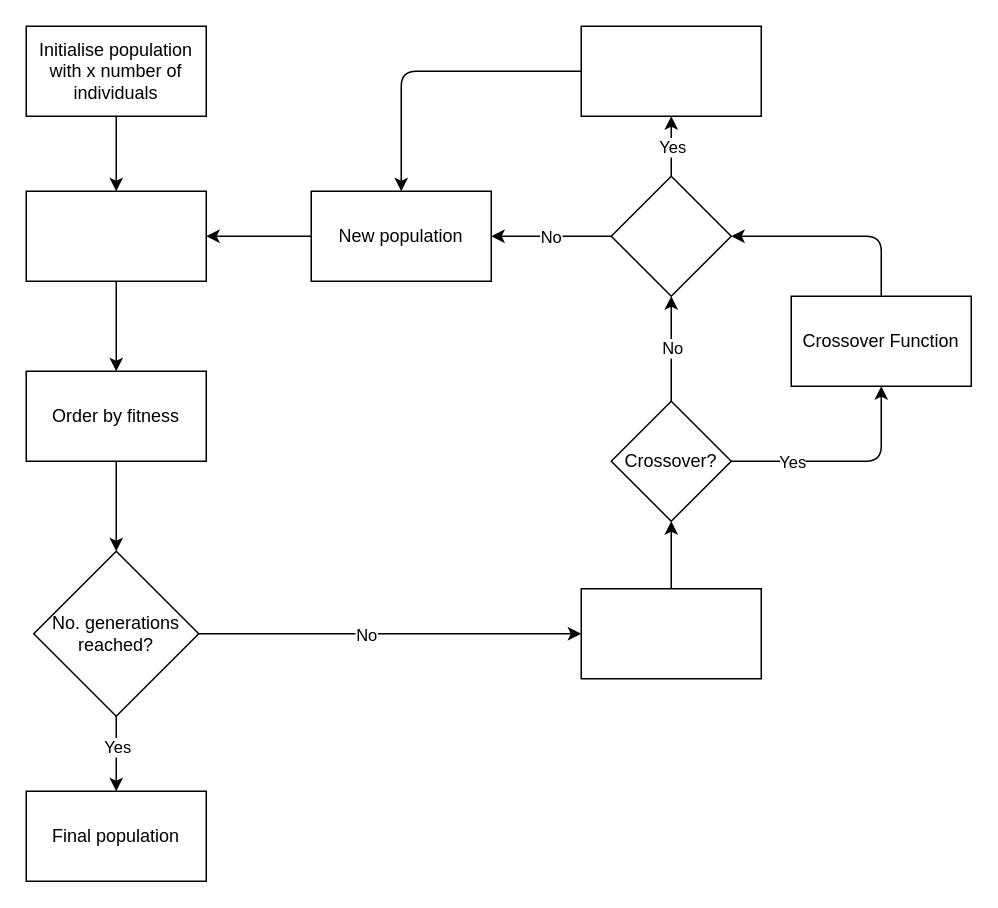
This 998x908 diagram has some shape labels left out. Here are the shapes that lost their labels. From the top down, the centre of each, then its label:
At pixel 670 70: "Mutation Function".
At pixel 115 235: "Calculate fitness of each individual".
At pixel 670 235: "Mutate?".
At pixel 670 633: "Select individuals".
